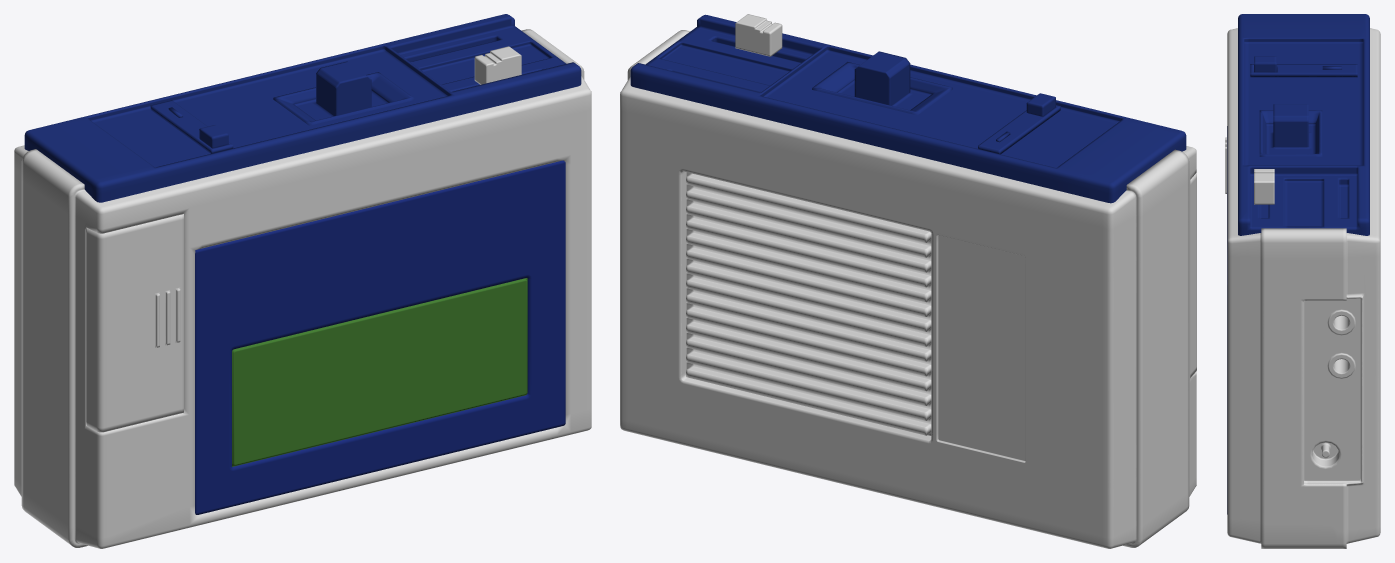
The model's file is vokmen.glb.
The picture shows the model from 3 angles, left to right: view 1: azimuth 30°, elevation 25°; view 2: azimuth 150°, elevation 25°; view 3: azimuth 270°, elevation 25°; orthographic projection. The views are drawn at different scales.
Visible parts, largest first — view 1: vokmen, poklopac, top, staklo, vrata, power, stereo, volumen; view 2: vokmen, zadnja strana, top, power, stereo, volumen, vrata; view 3: vokmen, top, power, stereo, volumen, poklopac.
Boxes of the visible parts, x1=… form: vokmen: x1=14, y1=29, x2=591, y2=548; poklopac: x1=195, y1=160, x2=565, y2=514; top: x1=24, y1=14, x2=581, y2=202; staklo: x1=232, y1=278, x2=527, y2=466; vrata: x1=86, y1=214, x2=183, y2=432; power: x1=273, y1=61, x2=414, y2=125; stereo: x1=150, y1=100, x2=233, y2=153; volumen: x1=474, y1=46, x2=521, y2=84; vokmen: x1=620, y1=30, x2=1196, y2=548; zadnja strana: x1=686, y1=172, x2=931, y2=435; top: x1=630, y1=14, x2=1186, y2=203; power: x1=812, y1=51, x2=952, y2=115; stereo: x1=978, y1=93, x2=1060, y2=154; volumen: x1=735, y1=14, x2=782, y2=56; vrata: x1=1190, y1=172, x2=1196, y2=377; vokmen: x1=1227, y1=28, x2=1380, y2=548; top: x1=1238, y1=14, x2=1369, y2=235; power: x1=1259, y1=104, x2=1322, y2=156; stereo: x1=1250, y1=56, x2=1357, y2=77; volumen: x1=1254, y1=169, x2=1274, y2=204; poklopac: x1=1227, y1=126, x2=1227, y2=514.
Bounding box in the file's own units: 30.58 × 22.44 × 9.11.
